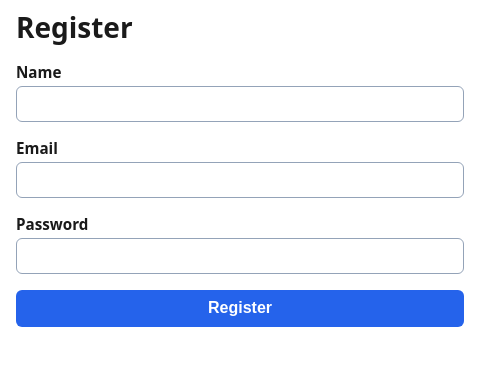
Test: RegisterPage › blocks submission when the password is shorter than 8 characters
The image size is (481, 367).
Type "John Doe" into the field labelled "Name" at (240, 104), box [16, 86, 464, 122]
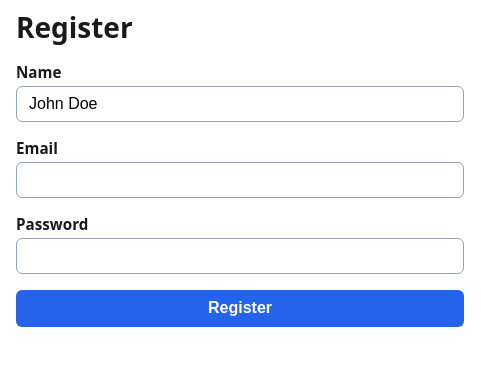
Type "john@example.com" into the field labelled "Email" at (240, 180), box [16, 162, 464, 198]
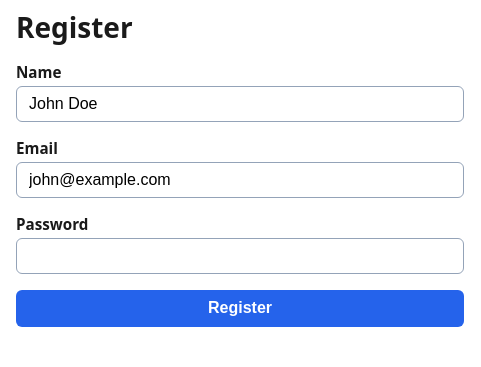
Type "short" into the password field labelled "Password" at (240, 256), box [16, 238, 464, 274]
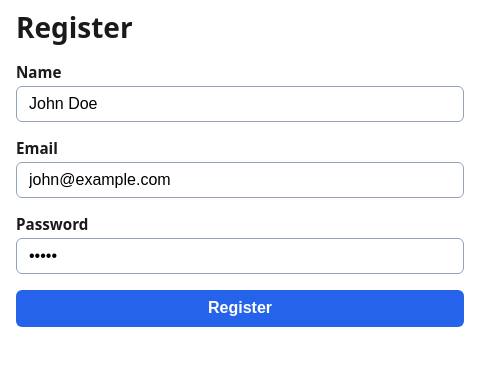
Click the button "Register" at (240, 308), box [16, 290, 464, 327]
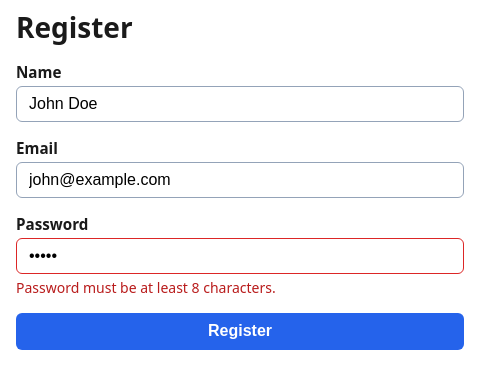
Check: the text "Password must be at least 8 characters." is shown, box [16, 278, 276, 297]
